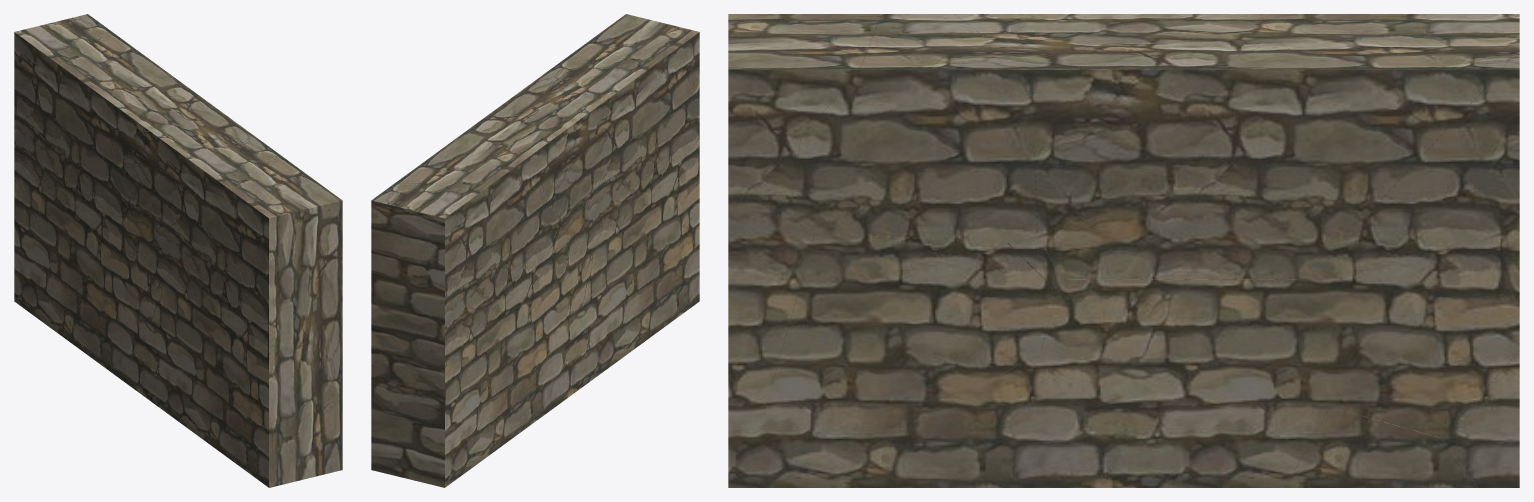
The model's file is BreakWallSmall_000001.obj.
The picture shows the model from 3 angles, left to right: view 1: azimuth 30°, elevation 25°; view 2: azimuth 150°, elevation 25°; view 3: azimuth 270°, elevation 25°; orthographic projection. The views are drawn at different scales.
Parts seen in each view (by area): view 1: Cube.002_cell.002_Cube.002_cell.001, Cube.002_cell.013_Cube.002_cell.012, Cube.002_cell.012_Cube.002_cell.011, Cube.002_cell.010_Cube.002_cell.009, Cube.002_cell.017_Cube.002_cell.016, Cube.002_cell.007_Cube.002_cell.006, Cube.002_cell.011_Cube.002_cell.010, Cube.002_cell.009_Cube.002_cell.008, Cube.002_cell.004_Cube.002_cell.003, Cube.002_cell.019_Cube.002_cell.018, Cube.002_cell.008_Cube.002_cell.007, Cube.002_cell.001_Cube.002_cell.000 (+6 smaller); view 2: Cube.002_cell.013_Cube.002_cell.012, Cube.002_cell.012_Cube.002_cell.011, Cube.002_cell.010_Cube.002_cell.009, Cube.002_cell.018_Cube.002_cell.017, Cube.002_cell.017_Cube.002_cell.016, Cube.002_cell.005_Cube.002_cell.004, Cube.002_cell.009_Cube.002_cell.008, Cube.002_cell.004_Cube.002_cell.003, Cube.002_cell.014_Cube.002_cell.013, Cube.002_cell.019_Cube.002_cell.018, Cube.002_cell.008_Cube.002_cell.007, Cube.002_cell.001_Cube.002_cell.000 (+6 smaller); view 3: Cube.002_cell.003_Cube.002_cell.002, Cube.002_cell.015_Cube.002_cell.014, Cube.002_cell.004_Cube.002_cell.003, Cube.002_cell.016_Cube.002_cell.015, Cube.002_cell.014_Cube.002_cell.013, Cube.002_cell.009_Cube.002_cell.008, Cube.002_cell.001_Cube.002_cell.000, Cube.002_cell.008_Cube.002_cell.007, Cube.002_cell.005_Cube.002_cell.004, Cube.002_cell.011_Cube.002_cell.010, Cube.002_cell.019_Cube.002_cell.018, Cube.002_cell.002_Cube.002_cell.001 (+7 smaller).
Boxes of the visible parts, box(x1,y1,x2,y2) form: Cube.002_cell.002_Cube.002_cell.001: box(244, 291, 342, 437); Cube.002_cell.013_Cube.002_cell.012: box(146, 219, 246, 407); Cube.002_cell.012_Cube.002_cell.011: box(45, 188, 144, 365); Cube.002_cell.010_Cube.002_cell.009: box(18, 42, 139, 192); Cube.002_cell.017_Cube.002_cell.016: box(101, 130, 215, 282); Cube.002_cell.007_Cube.002_cell.006: box(236, 210, 342, 306); Cube.002_cell.011_Cube.002_cell.010: box(221, 403, 342, 487); Cube.002_cell.009_Cube.002_cell.008: box(98, 80, 252, 150); Cube.002_cell.004_Cube.002_cell.003: box(195, 135, 299, 268); Cube.002_cell.019_Cube.002_cell.018: box(220, 169, 342, 231); Cube.002_cell.008_Cube.002_cell.007: box(157, 325, 220, 452); Cube.002_cell.001_Cube.002_cell.000: box(14, 18, 155, 69); Cube.002_cell.013_Cube.002_cell.012: box(577, 127, 677, 301); Cube.002_cell.012_Cube.002_cell.011: box(475, 261, 574, 435); Cube.002_cell.010_Cube.002_cell.009: box(448, 152, 532, 328); Cube.002_cell.018_Cube.002_cell.017: box(371, 347, 476, 487); Cube.002_cell.017_Cube.002_cell.016: box(532, 85, 626, 275); Cube.002_cell.005_Cube.002_cell.004: box(371, 196, 452, 339); Cube.002_cell.009_Cube.002_cell.008: box(473, 79, 587, 188); Cube.002_cell.004_Cube.002_cell.003: box(537, 45, 668, 140); Cube.002_cell.014_Cube.002_cell.013: box(371, 318, 483, 392); Cube.002_cell.019_Cube.002_cell.018: box(584, 14, 692, 93); Cube.002_cell.008_Cube.002_cell.007: box(588, 292, 651, 382); Cube.002_cell.001_Cube.002_cell.000: box(377, 150, 459, 235); Cube.002_cell.003_Cube.002_cell.002: box(1039, 41, 1364, 279); Cube.002_cell.015_Cube.002_cell.014: box(1041, 279, 1330, 487); Cube.002_cell.004_Cube.002_cell.003: box(790, 14, 1037, 242); Cube.002_cell.016_Cube.002_cell.015: box(771, 233, 1056, 433); Cube.002_cell.014_Cube.002_cell.013: box(1298, 211, 1519, 437); Cube.002_cell.009_Cube.002_cell.008: box(985, 14, 1275, 158); Cube.002_cell.001_Cube.002_cell.000: box(1302, 14, 1519, 199); Cube.002_cell.008_Cube.002_cell.007: box(904, 350, 1062, 487); Cube.002_cell.005_Cube.002_cell.004: box(1380, 42, 1519, 251); Cube.002_cell.011_Cube.002_cell.010: box(728, 388, 903, 487); Cube.002_cell.019_Cube.002_cell.018: box(728, 14, 881, 137); Cube.002_cell.002_Cube.002_cell.001: box(728, 212, 814, 401).
Size of the model in its own units: 4 by 14 by 24.
2 materials, 2 textured.
